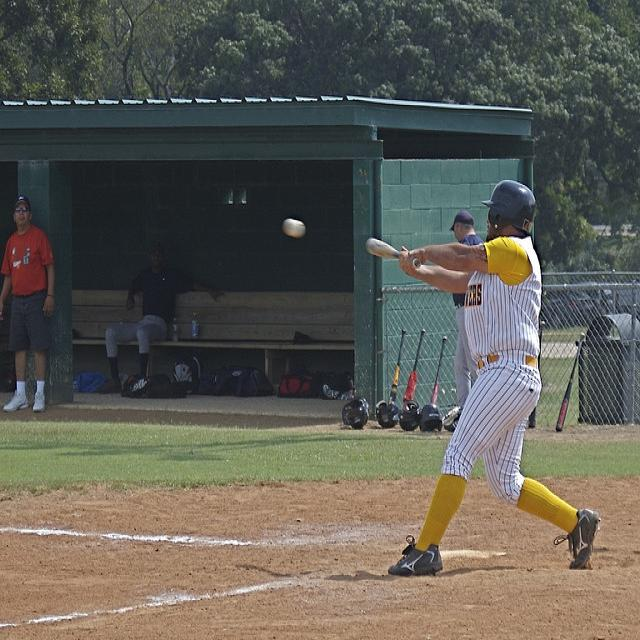Vehicle: (539, 288, 603, 331)
